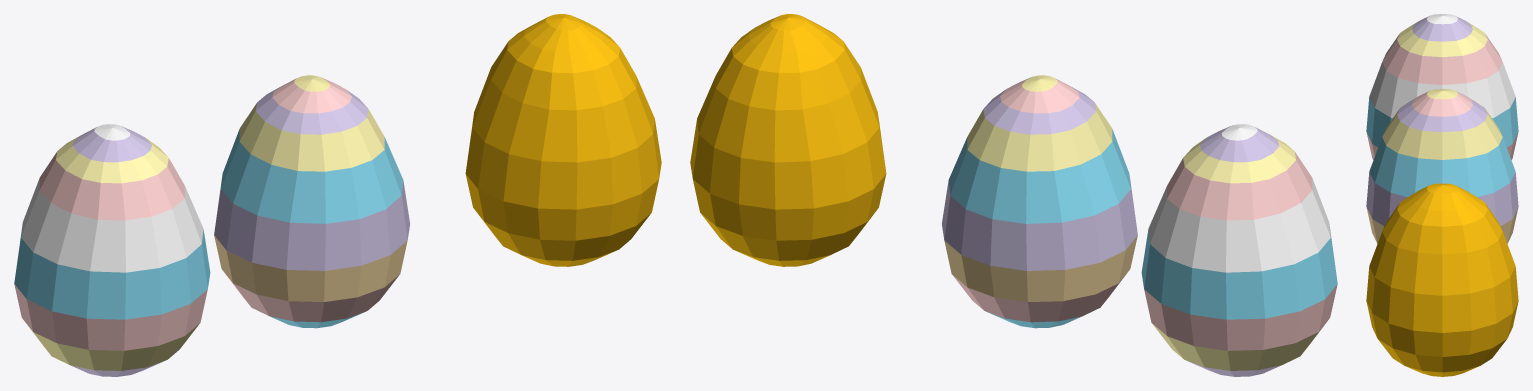
The model's file is EasterEgg.fbx.
The picture shows the model from 3 angles, left to right: view 1: azimuth 30°, elevation 25°; view 2: azimuth 150°, elevation 25°; view 3: azimuth 270°, elevation 25°; orthographic projection. The views are drawn at different scales.
Visible parts, largest first — view 1: Sphere, Sphere.001, Natalia'sEgg; view 2: Sphere, Sphere.001, Natalia'sEgg; view 3: Sphere.001, Sphere, Natalia'sEgg.
Boxes of the visible parts, left/top/right/bottom form: Sphere: left=214, top=75, right=409, bottom=328; Sphere.001: left=465, top=14, right=661, bottom=266; Natalia'sEgg: left=14, top=124, right=210, bottom=376; Sphere: left=942, top=75, right=1137, bottom=328; Sphere.001: left=690, top=14, right=886, bottom=266; Natalia'sEgg: left=1141, top=124, right=1337, bottom=376; Sphere.001: left=1366, top=183, right=1518, bottom=376; Sphere: left=1366, top=89, right=1518, bottom=243; Natalia'sEgg: left=1366, top=14, right=1518, bottom=159.
Bounding box in the file's own units: 1242 × 458 × 342.
